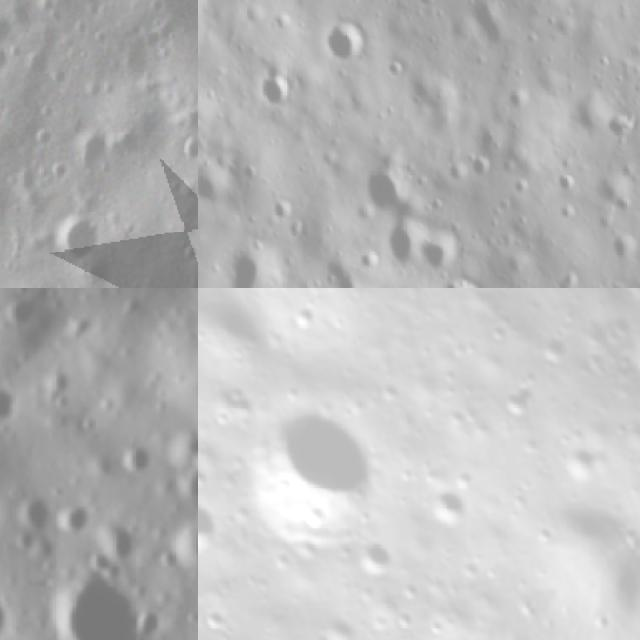crater: (220, 380, 407, 571), (42, 559, 156, 640), (198, 288, 281, 386), (414, 473, 481, 542), (520, 320, 584, 385), (2, 478, 62, 540), (88, 511, 145, 573), (360, 164, 420, 222), (106, 429, 164, 486), (198, 481, 233, 572), (52, 491, 107, 548), (0, 288, 52, 340), (572, 91, 625, 142), (56, 213, 104, 266), (226, 243, 282, 288), (327, 18, 376, 68), (622, 288, 640, 423), (69, 124, 117, 173), (138, 0, 198, 39), (468, 2, 510, 56), (384, 221, 428, 272), (198, 166, 239, 217), (307, 604, 365, 640), (420, 228, 461, 278), (163, 408, 198, 463), (0, 373, 28, 430), (0, 576, 21, 640), (325, 270, 399, 288), (264, 75, 298, 112), (606, 113, 640, 150), (610, 236, 640, 273), (267, 198, 299, 228), (400, 625, 455, 640), (508, 89, 536, 116), (177, 131, 198, 165), (471, 158, 496, 185), (245, 161, 269, 189), (447, 163, 471, 190), (559, 171, 581, 197), (391, 56, 409, 84), (0, 39, 9, 88), (413, 0, 442, 13), (487, 0, 527, 9)
